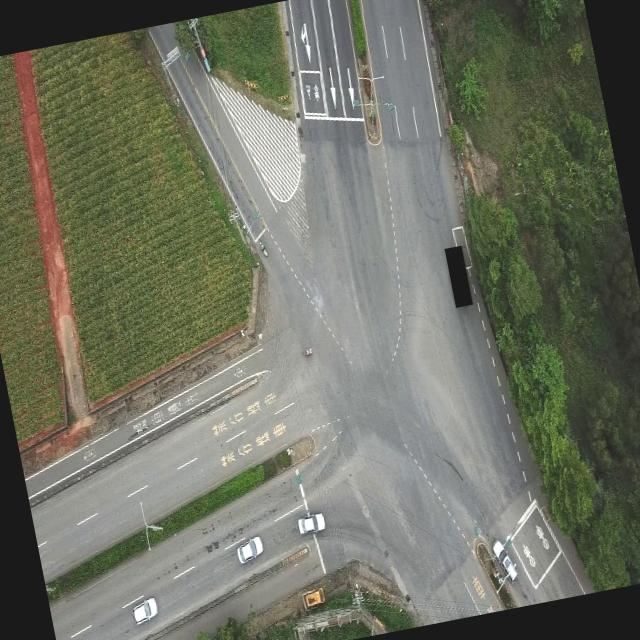car: (490, 536, 520, 586), (234, 534, 266, 566), (130, 595, 160, 625), (296, 510, 326, 537), (300, 586, 328, 612)
